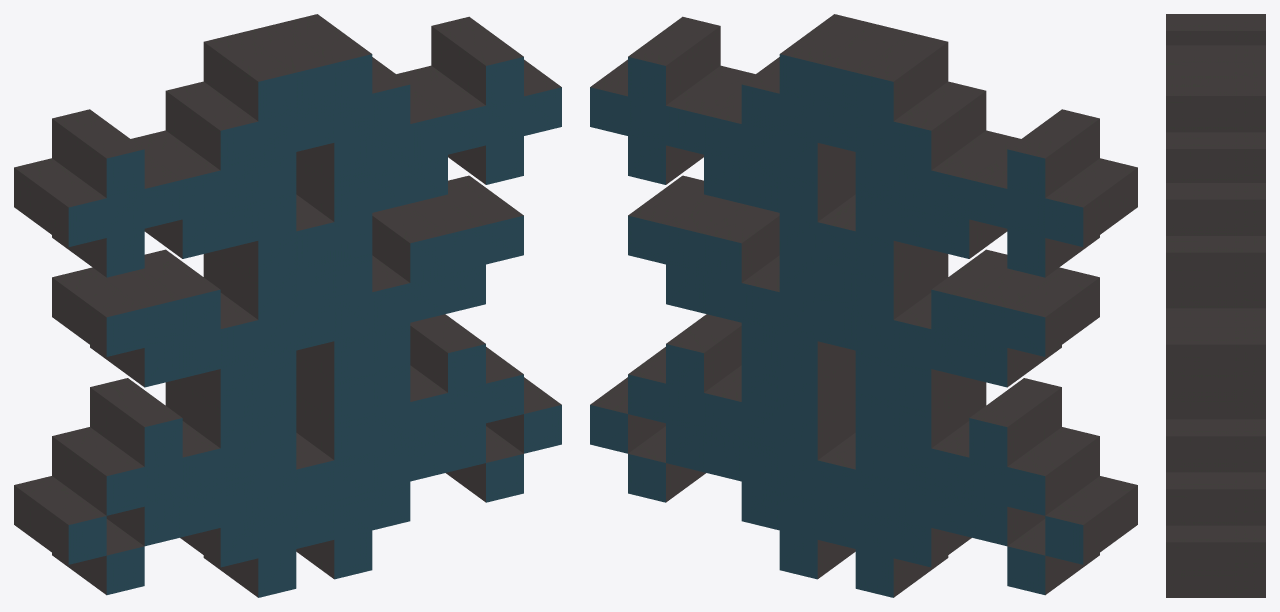
File: Napoleon-transformed.glb
The picture shows the model from 3 angles, left to right: view 1: azimuth 30°, elevation 25°; view 2: azimuth 150°, elevation 25°; view 3: azimuth 270°, elevation 25°; orthographic projection. The views are drawn at different scales.
Parts seen in each view (by area): view 1: Napoleon; view 2: Napoleon; view 3: Napoleon.
Boxes of the visible parts, bbox=[...] form: Napoleon: bbox=[14, 14, 561, 597]; Napoleon: bbox=[590, 14, 1137, 597]; Napoleon: bbox=[1166, 14, 1265, 597].
Size of the model in its own units: 3 by 3 by 0.5765.
2 materials, 2 textured.
